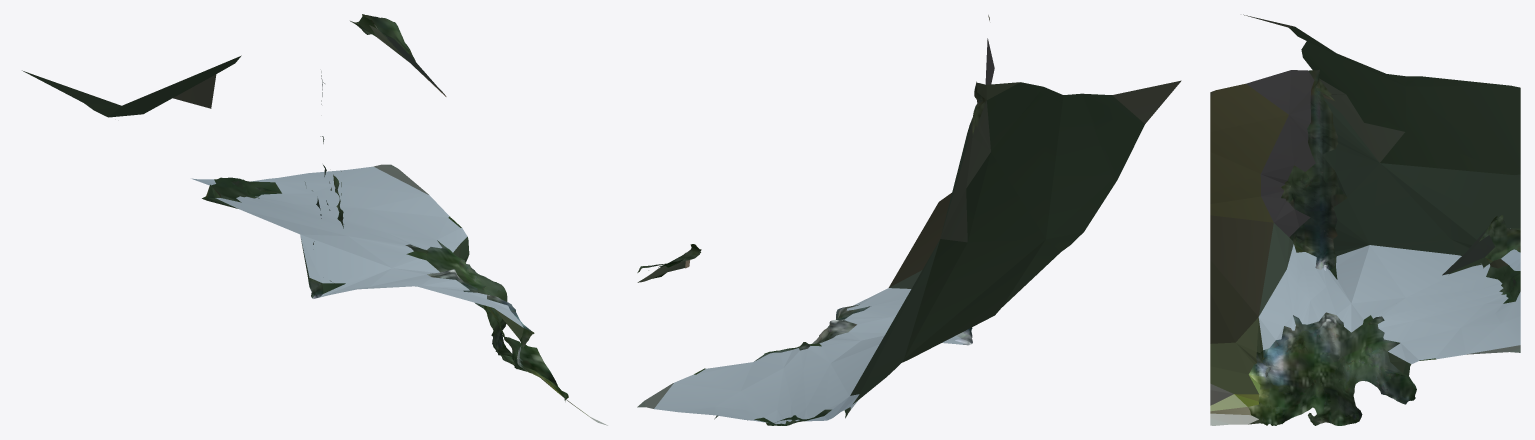
The picture shows the model from 3 angles, left to right: view 1: azimuth 30°, elevation 25°; view 2: azimuth 150°, elevation 25°; view 3: azimuth 270°, elevation 25°; orthographic projection. The views are drawn at different scales.
Bounding box in the file's own units: 1.97 × 1.97 × 1.97.
Materials: 1 (1 with a texture image).
